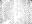person: (4, 19, 10, 24)
